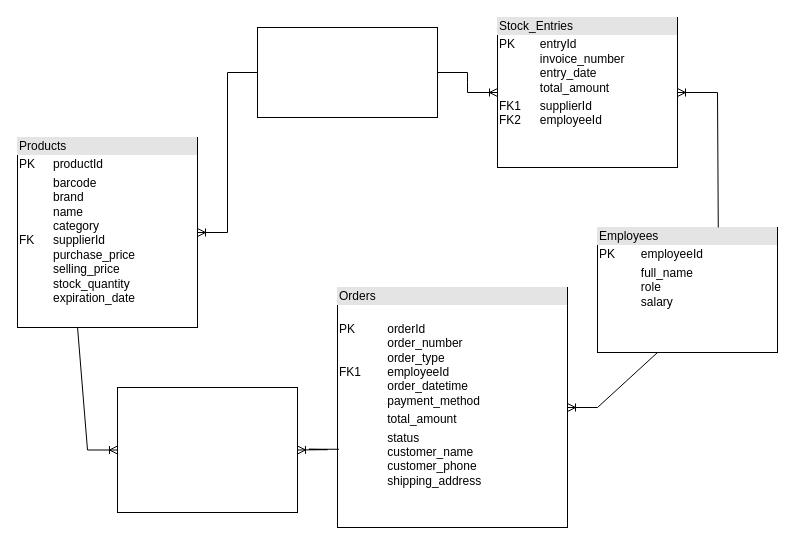
This 795x545 diagram has some shape labels left out. The centre of each missing label's shape, as x and y in pixels:
Order_Items PK itemId FK1 FK2 orderId productId quantity unit_price: the point at 207,449
Suppliers PK supplierId company_name phone email: the point at 347,72
